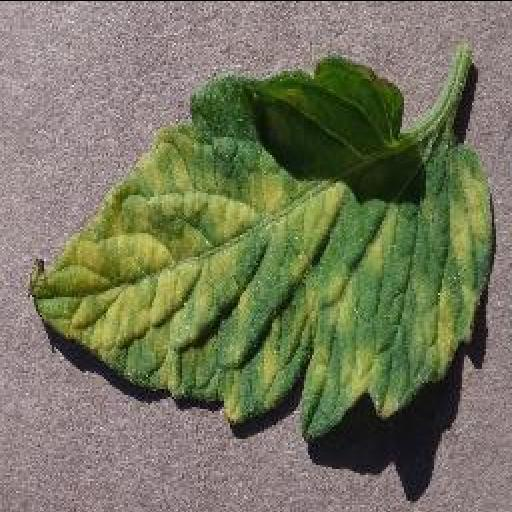disease_tomato: (26, 58, 492, 440)
